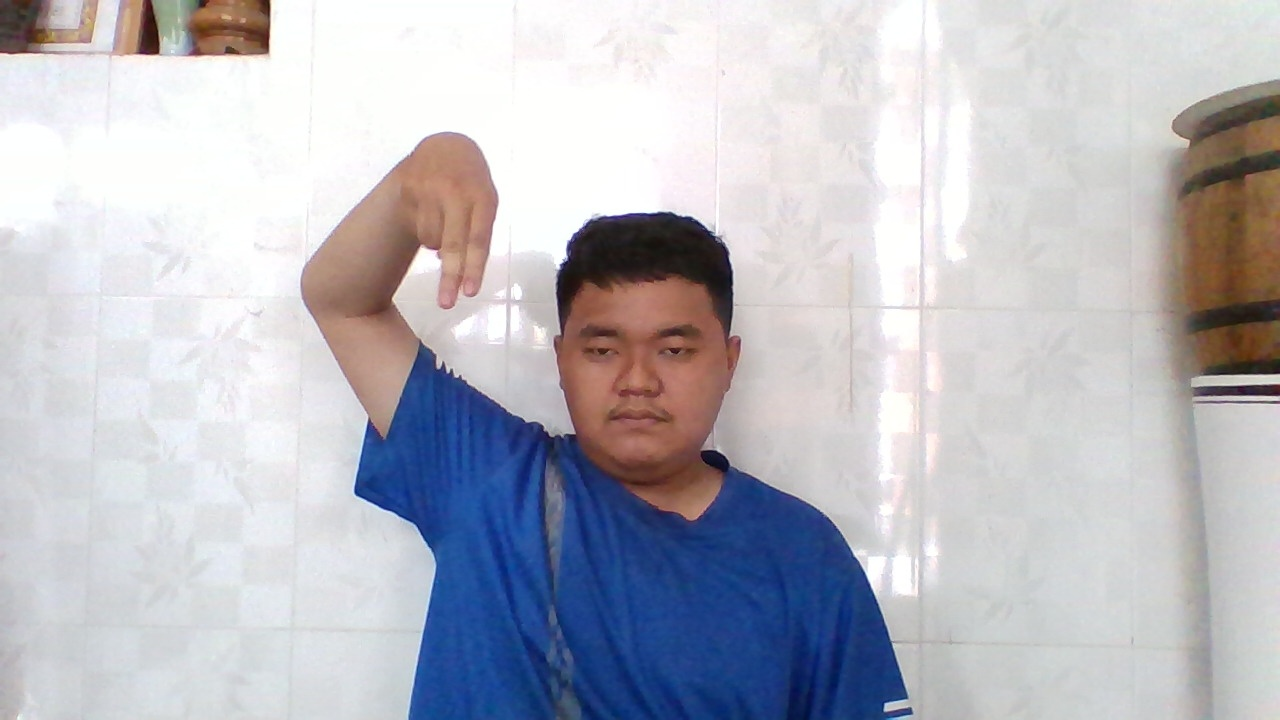N: (393, 123, 503, 320)
